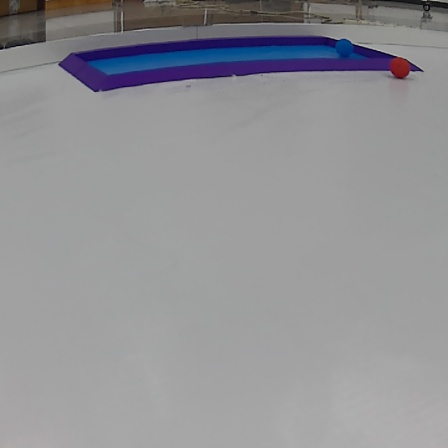blue: (336, 37, 356, 61)
blue_aim: (51, 34, 435, 95)
red: (391, 58, 411, 78)
